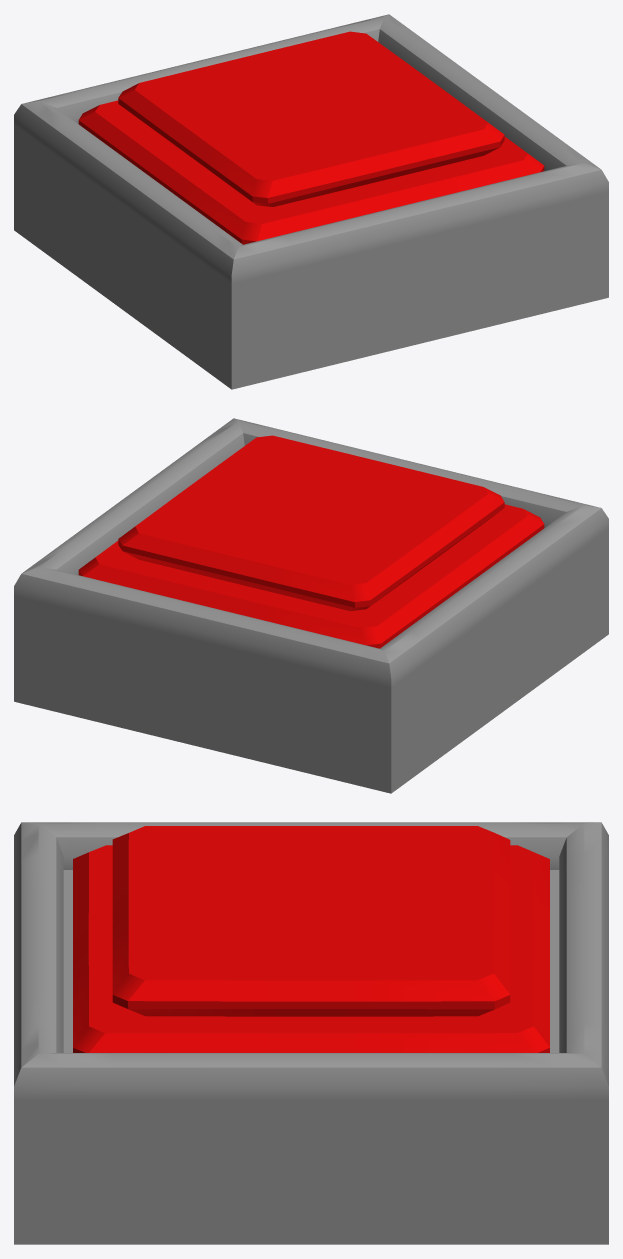
Rendered from Button_Red.fbx.
3 renders of one model, top to bottom at view 1: azimuth 30°, elevation 25°; view 2: azimuth 150°, elevation 25°; view 3: azimuth 270°, elevation 25°, orthographic. The views are drawn at different scales.
Parts seen in each view (by area): view 1: Button_Red, Button_Face_Red; view 2: Button_Red, Button_Face_Red; view 3: Button_Red, Button_Face_Red.
Boxes of the visible parts, x1,y1,x2,y2 form: Button_Red: (14,14,608,389); Button_Face_Red: (78,31,544,244); Button_Red: (14,418,608,793); Button_Face_Red: (78,435,544,648); Button_Red: (14,822,608,1244); Button_Face_Red: (73,826,549,1052).
Bounding box in the file's own units: 3.74 × 1.5 × 3.74.
